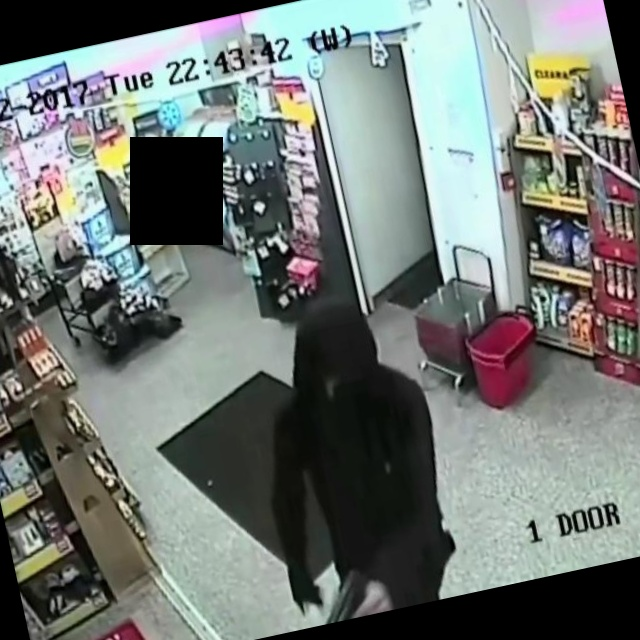gun: (309, 562, 379, 624)
